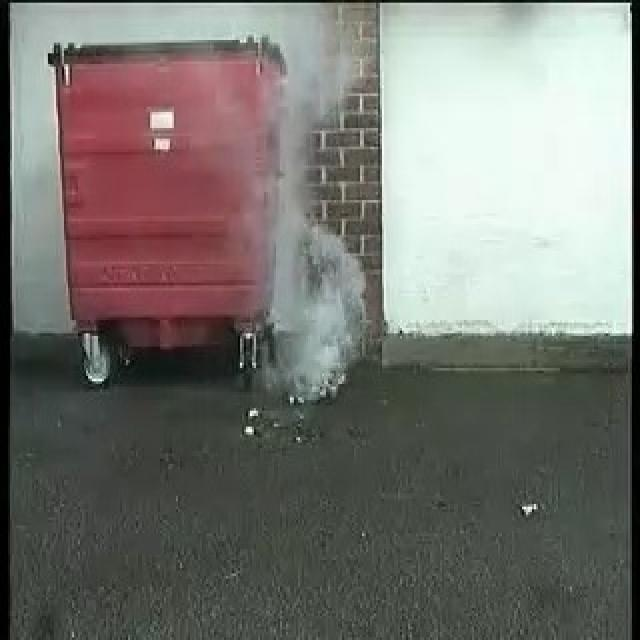smoke: (266, 49, 366, 396)
